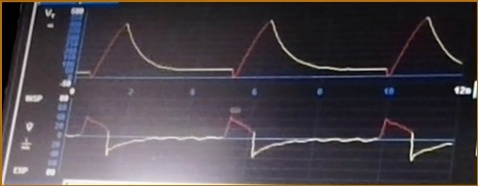Flow: (72, 107, 446, 174)
Leakage Volume: (84, 12, 456, 85)
